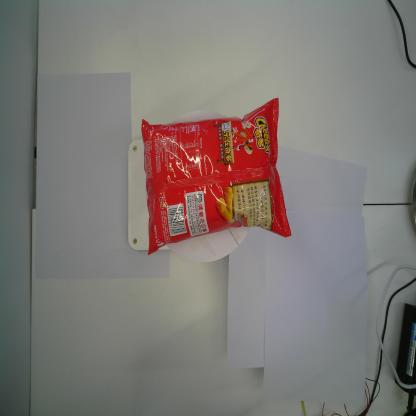Puffed Food: (140, 94, 294, 258)
